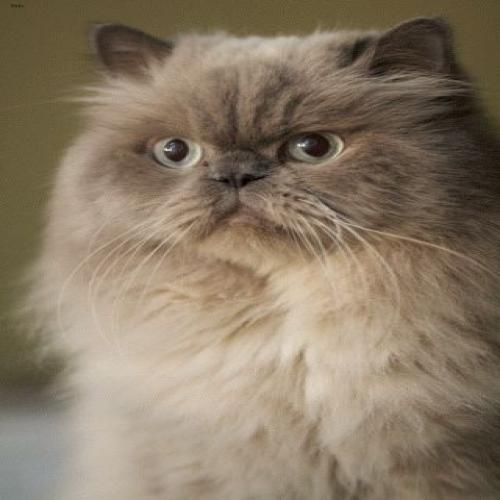persian: (48, 1, 491, 283)
